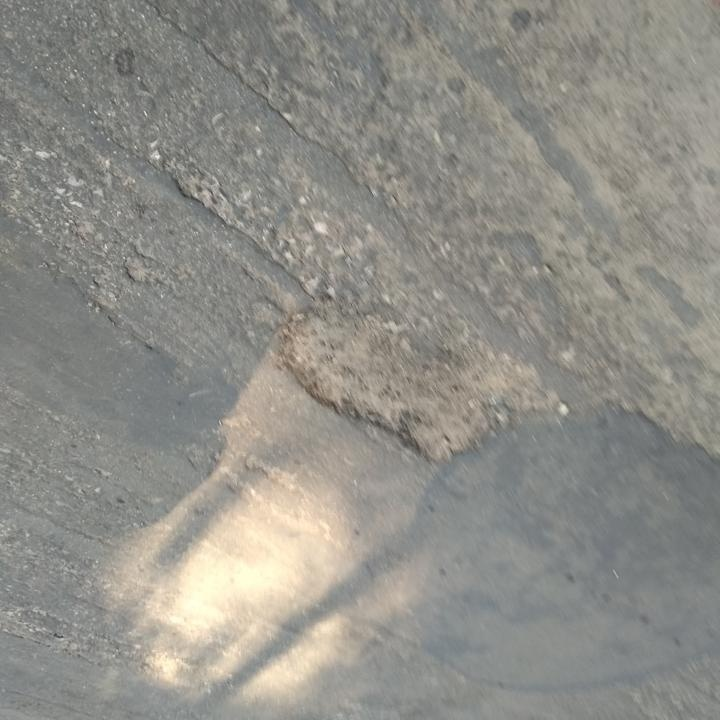pothole: (280, 298, 567, 467)
